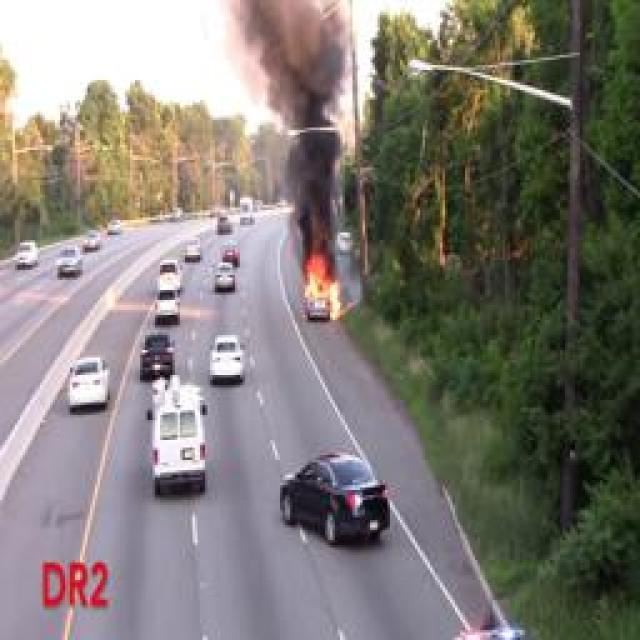Fire: (296, 240, 344, 322)
Smoke: (254, 10, 366, 251)
